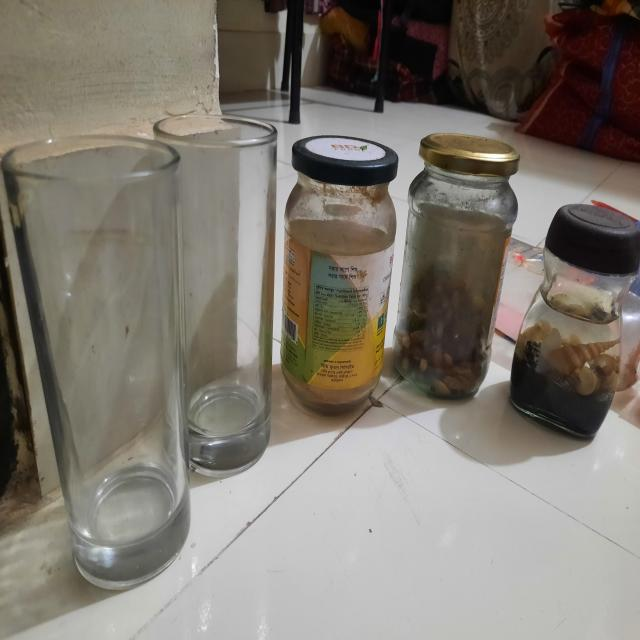Glass: (0, 110, 300, 580), (300, 190, 598, 506)
can: (296, 130, 535, 188)
